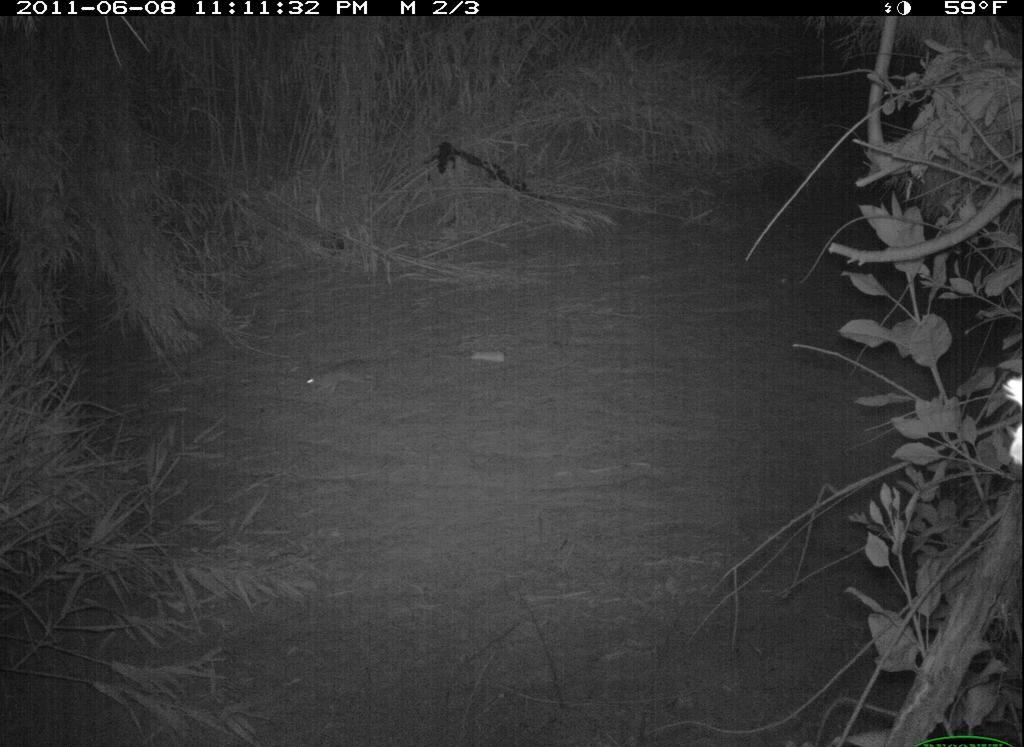rabbit: (292, 354, 397, 409)
